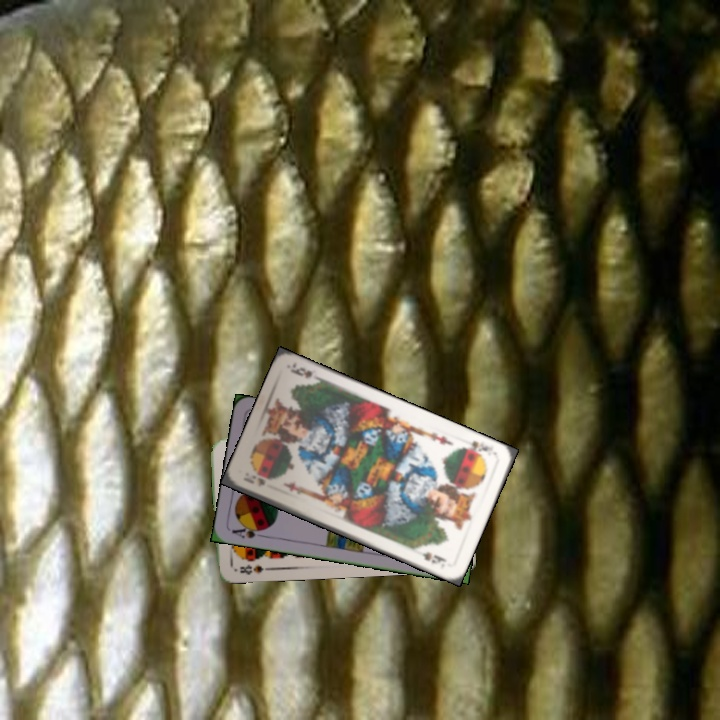S8: (236, 560, 271, 577)
SA: (228, 521, 269, 541)
SK: (458, 436, 492, 459), (239, 471, 268, 489)
